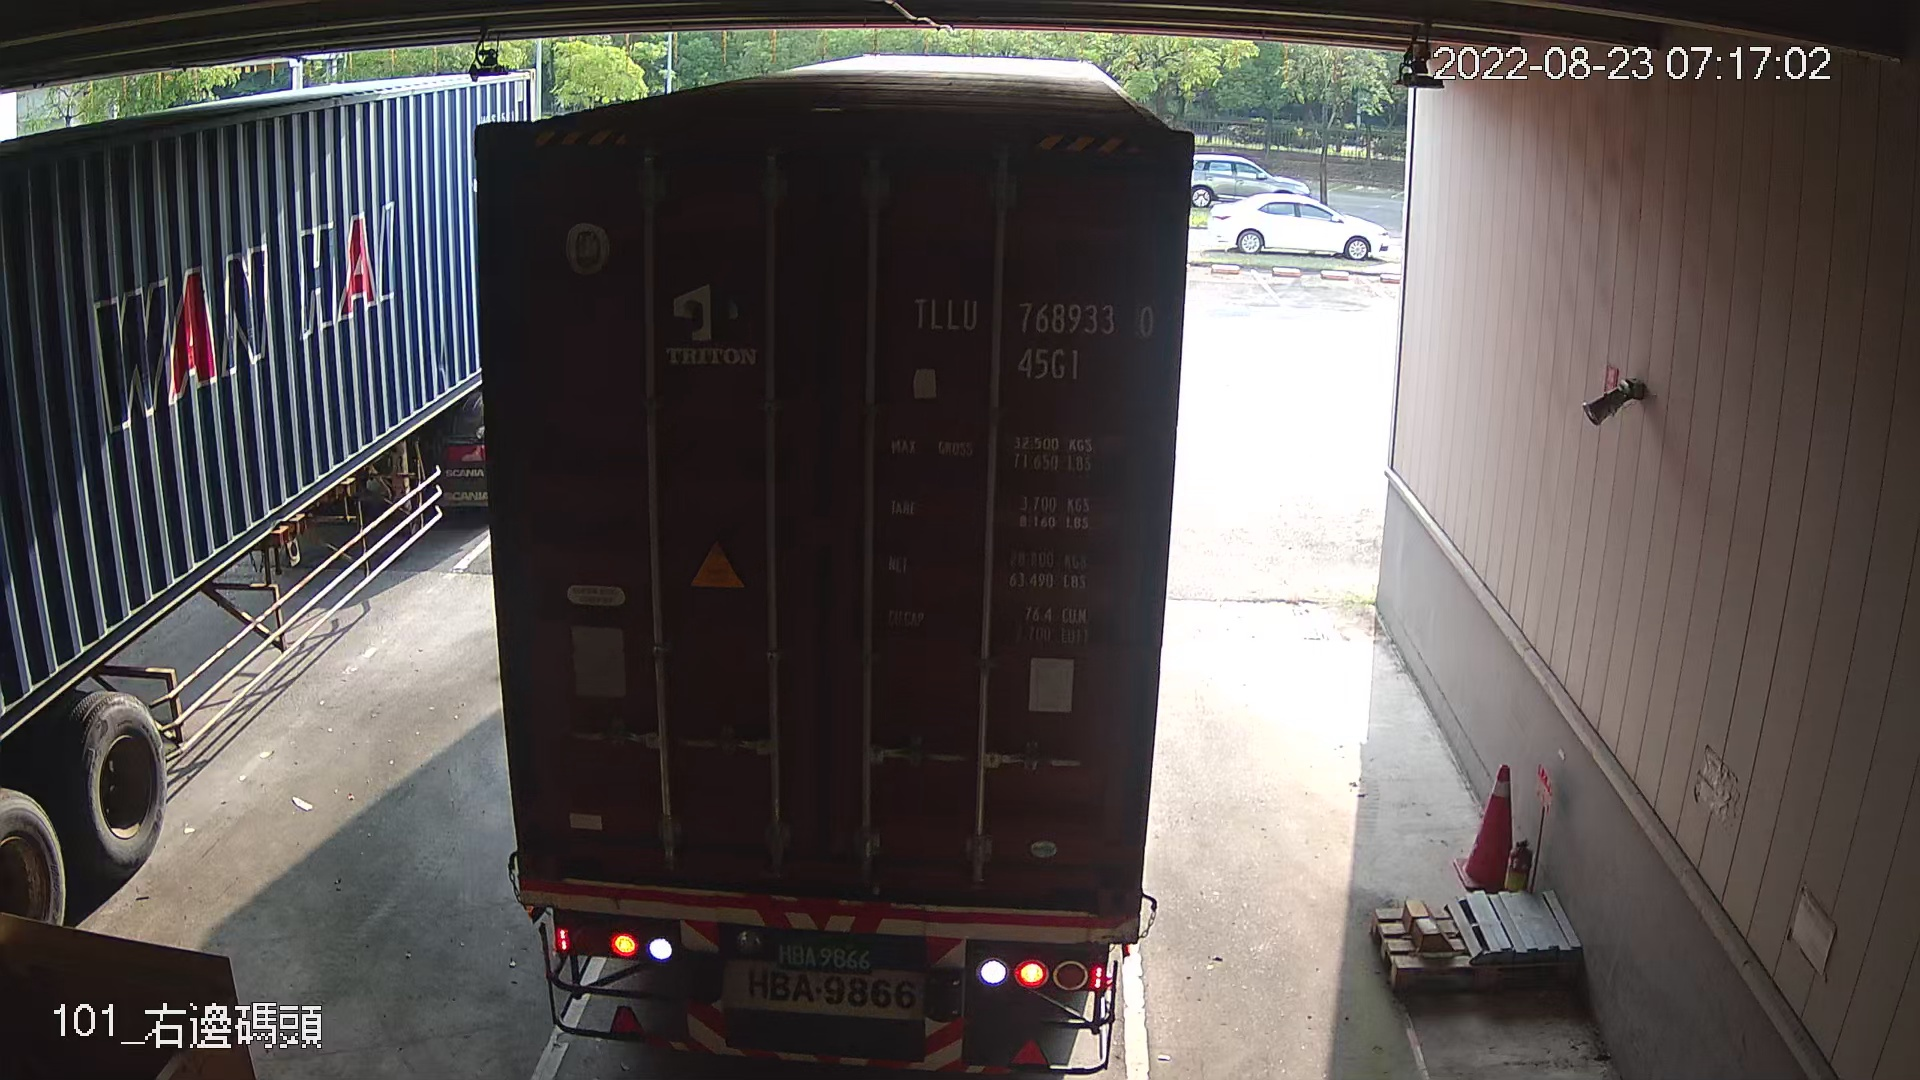container: (901, 282, 1166, 386)
